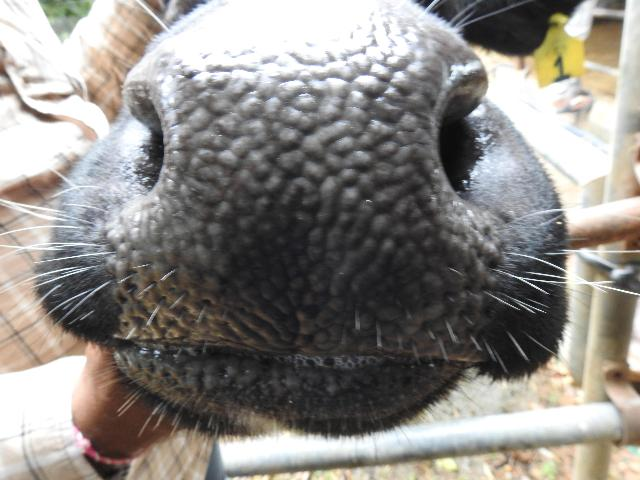Muzzle: (137, 61, 475, 331)
